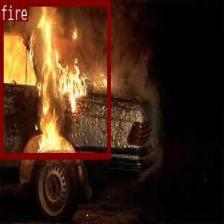fire: (0, 0, 110, 158)
